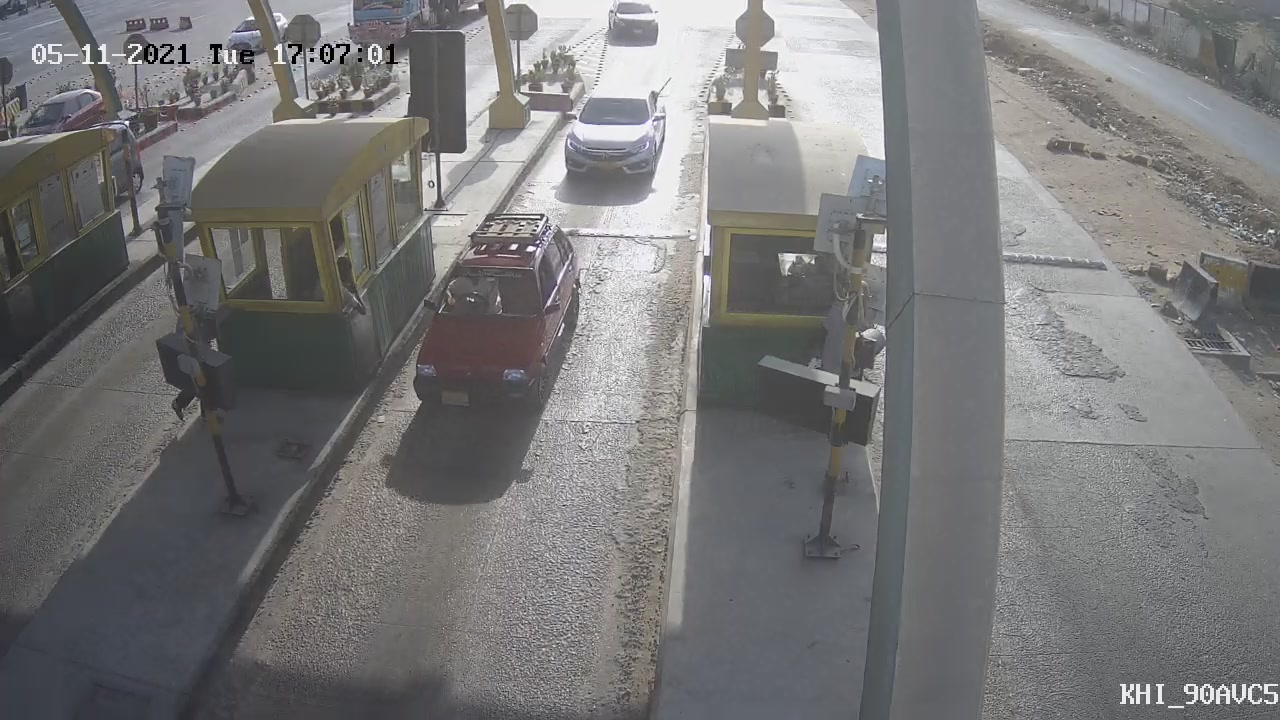F1: (398, 199, 598, 429), (546, 68, 689, 196)
